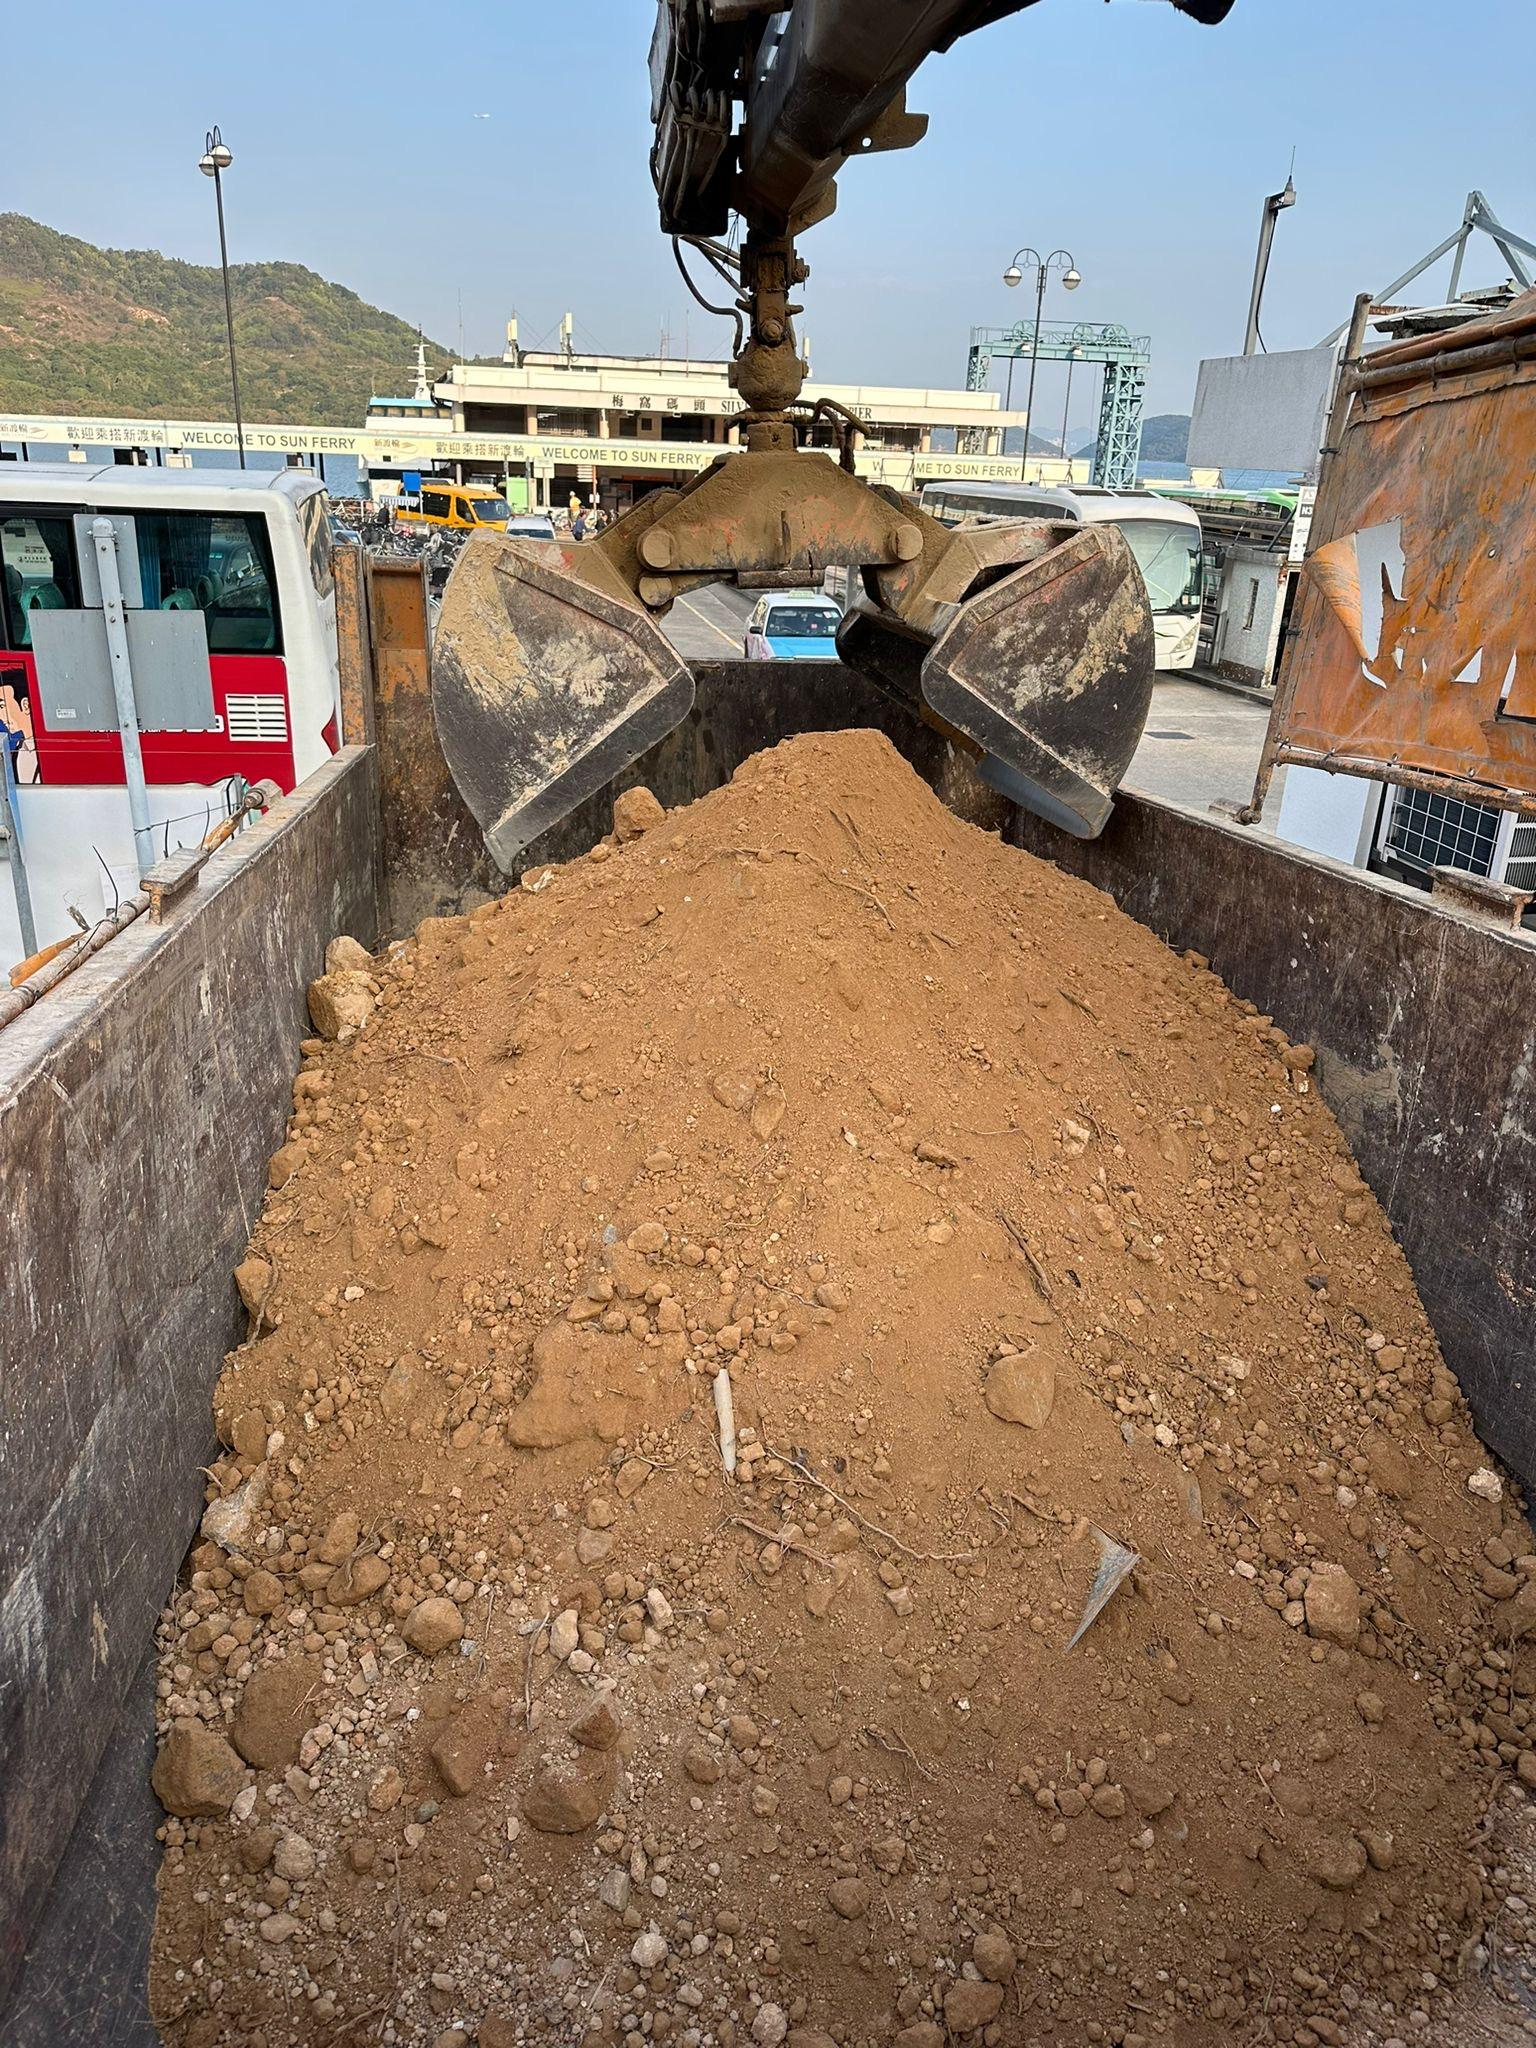dry: (153, 740, 1536, 2033)
